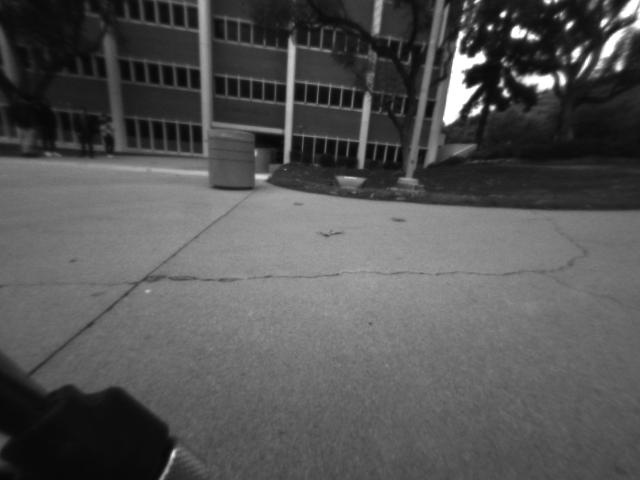trashcan: (203, 117, 257, 195)
